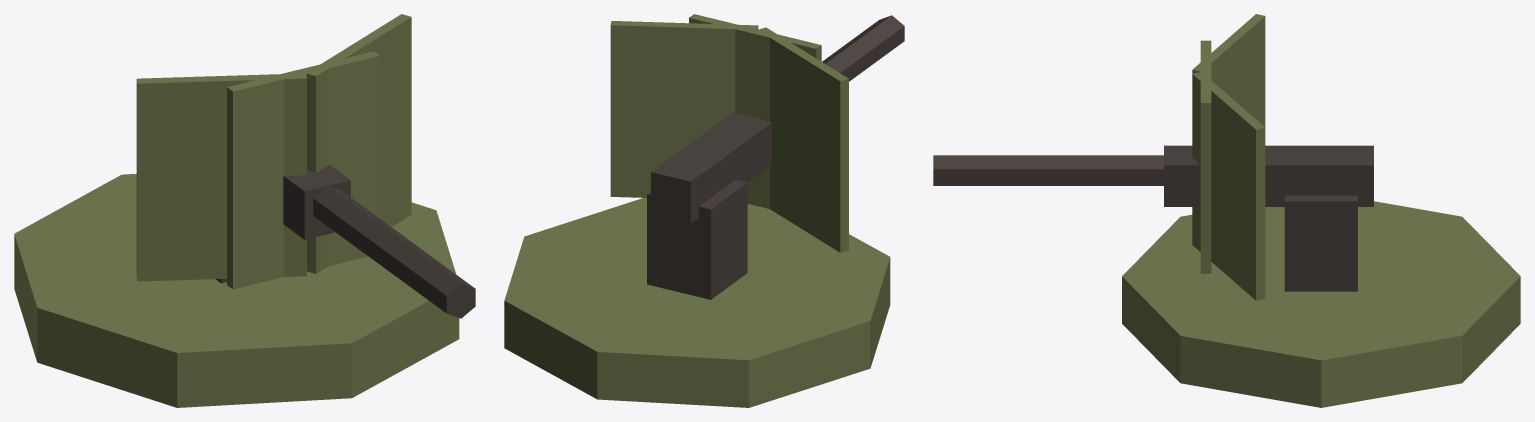
The model's file is SM_R3_VagonBlindado_v2_Faldones_LOD1.fbx.
The picture shows the model from 3 angles, left to right: view 1: azimuth 30°, elevation 25°; view 2: azimuth 150°, elevation 25°; view 3: azimuth 270°, elevation 25°; orthographic projection. The views are drawn at different scales.
Parts seen in each view (by area): view 1: Torre; view 2: Torre; view 3: Torre.
Part boxes in pixels (x1,y1,x2,y2): Torre: (14, 14, 475, 407); Torre: (504, 14, 904, 407); Torre: (933, 14, 1520, 407).
Size of what is drawn, in the model's own units: 1.9 by 1.33 by 2.8.
